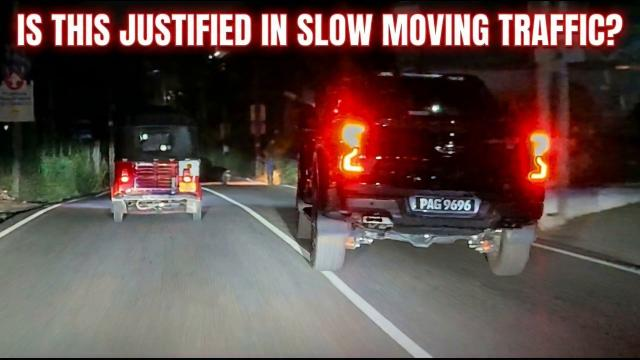illegal overtaking: (277, 64, 566, 299)
number plate: (409, 187, 490, 230)
